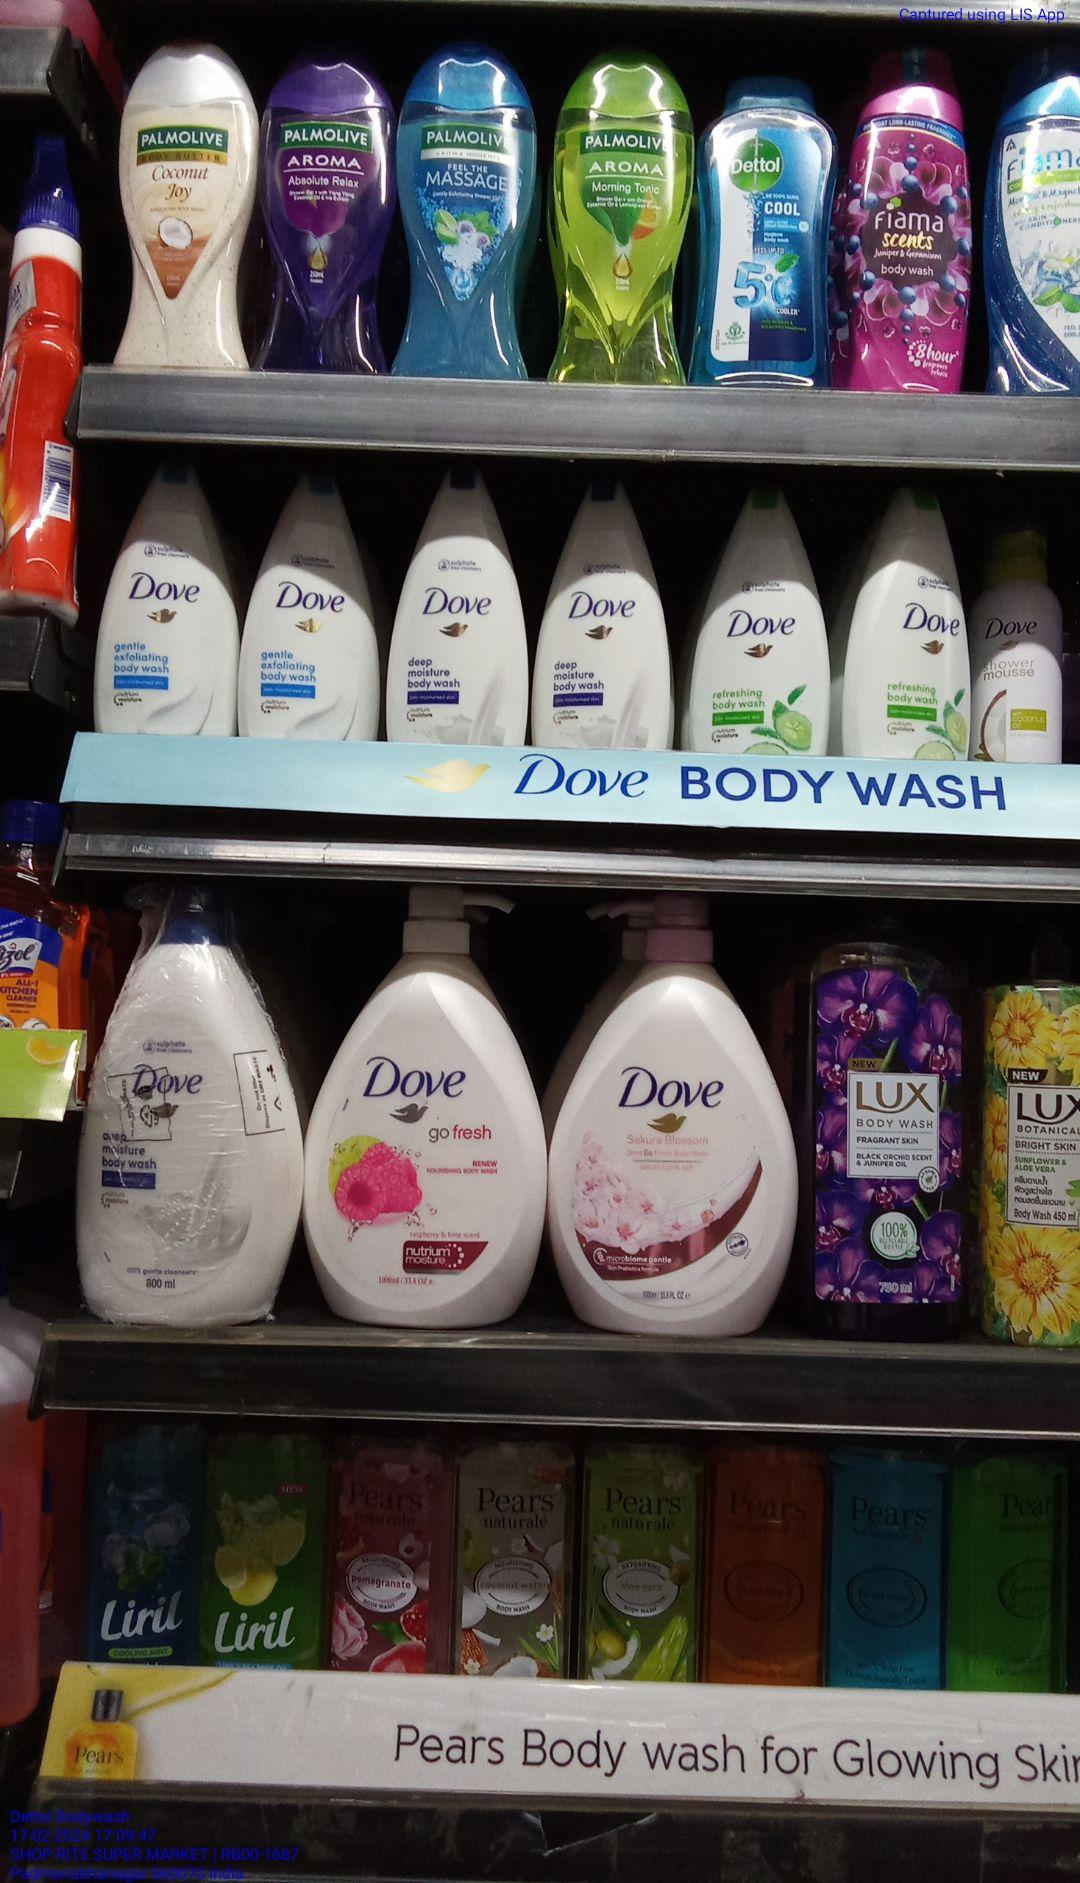Dettol_Bodywash_Cool: (683, 62, 832, 387)
Dove_Deep_Moisture_Body_Wash_250ML: (533, 463, 676, 753), (385, 459, 525, 746)
Dove_Gentle_Exfoliating_Body_Wash_250ML: (91, 440, 235, 732), (237, 444, 378, 738)
Dove_Refreshing_Body_Wash_250ML: (680, 463, 833, 757), (843, 467, 975, 759)
Liril_Cooling_Mint_Body_Wash_250ML: (83, 1412, 194, 1664)
Liril_Lime_and_Tea_Tree_Oil_Body_Wash_250ML: (204, 1416, 317, 1668)
Palmolive_Aroma_Moments_Feel_The_Massage_Shower_Gel_250ML: (394, 53, 530, 380)
Palmolive_Aroma_Morning_Tonic_Shower_Gel_250ML: (552, 53, 678, 383)
Palmolive_Aroma_Relax_250ML: (265, 58, 392, 376)
Palmolive_Coconut_Joy_Exfoliating_Body_Wash_250ML: (116, 39, 248, 367)
